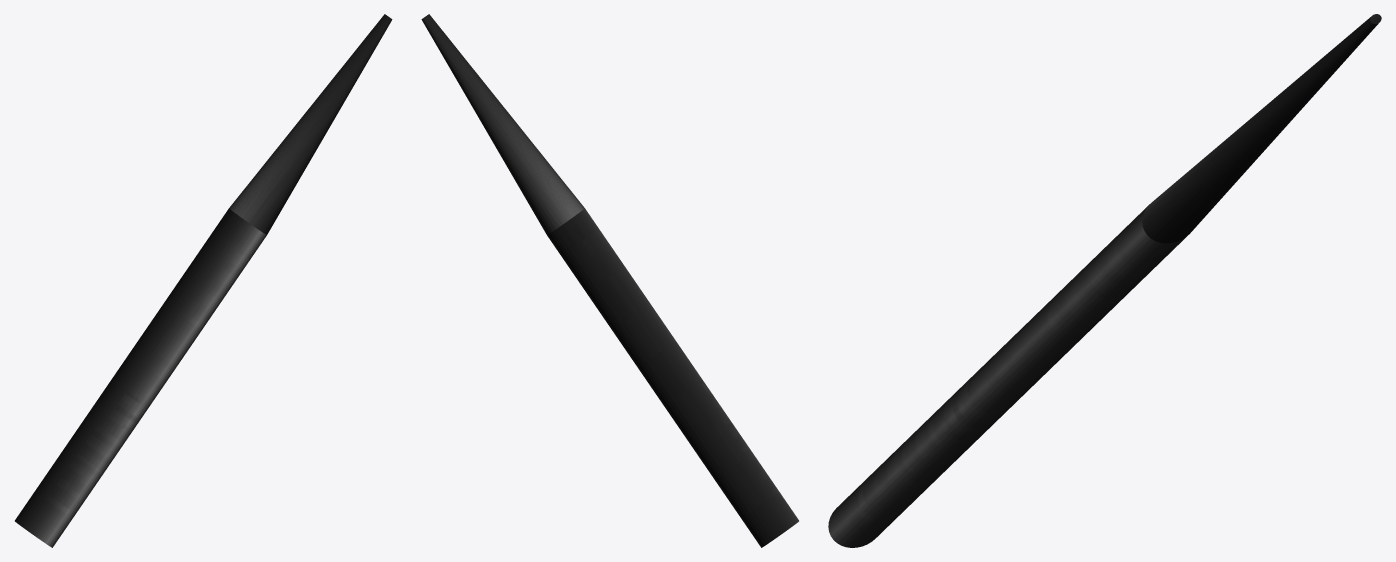
Rendered from my_hour.obj.
3 views of the same model, side by side, from view 1: azimuth 30°, elevation 25°; view 2: azimuth 150°, elevation 25°; view 3: azimuth 330°, elevation 25° (orthographic). The views are drawn at different scales.
Visible parts, largest first — view 1: Hour; view 2: Hour; view 3: Hour.
Part boxes in pixels (left/top/right/bottom): Hour: left=15, top=14, right=392, bottom=547; Hour: left=421, top=14, right=798, bottom=547; Hour: left=828, top=14, right=1381, bottom=547.
Size of the model in its own units: 0.0985 by 0.1133 by 0.0145.
1 material, 1 textured.
